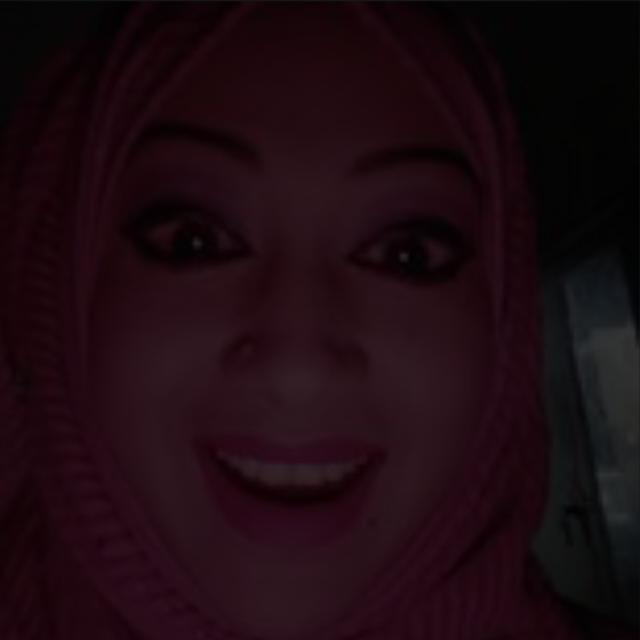Surprised: (63, 90, 490, 598)
